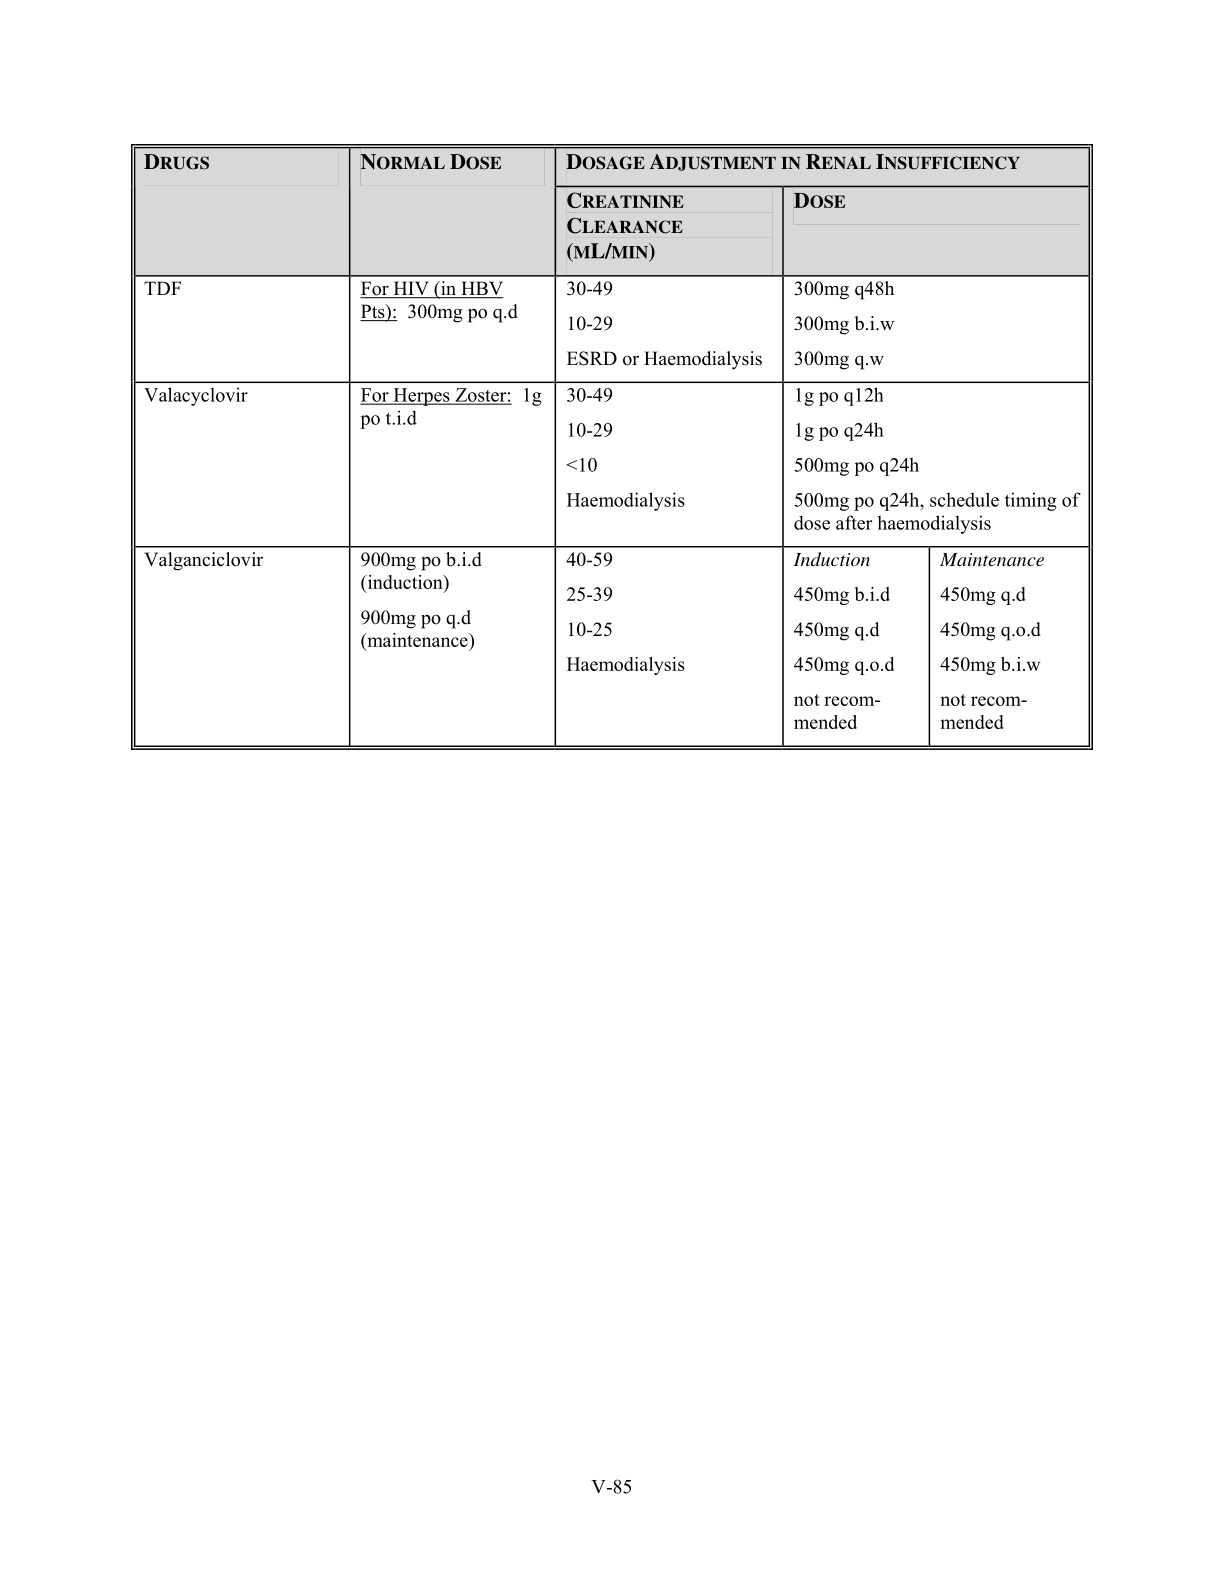merged_cells: (129, 143, 1093, 750)
